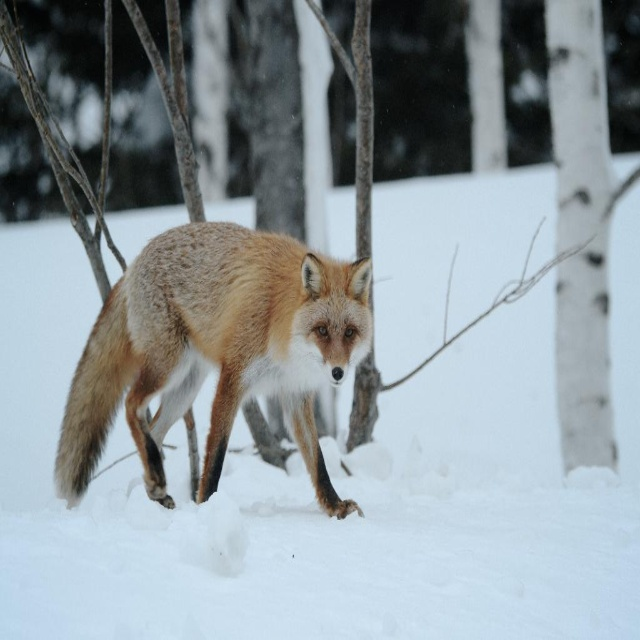Fox: (51, 219, 372, 519)
